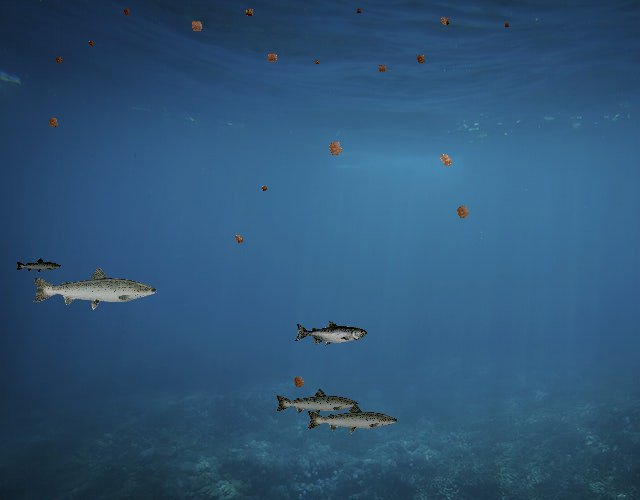Fish: (30, 265, 159, 311), (306, 403, 400, 437), (274, 387, 360, 418), (294, 321, 367, 347), (15, 258, 62, 275)
Pellet: (432, 147, 459, 174), (450, 199, 476, 225), (185, 15, 208, 38), (288, 371, 310, 393), (230, 230, 248, 248), (120, 5, 134, 19), (258, 183, 270, 195)
